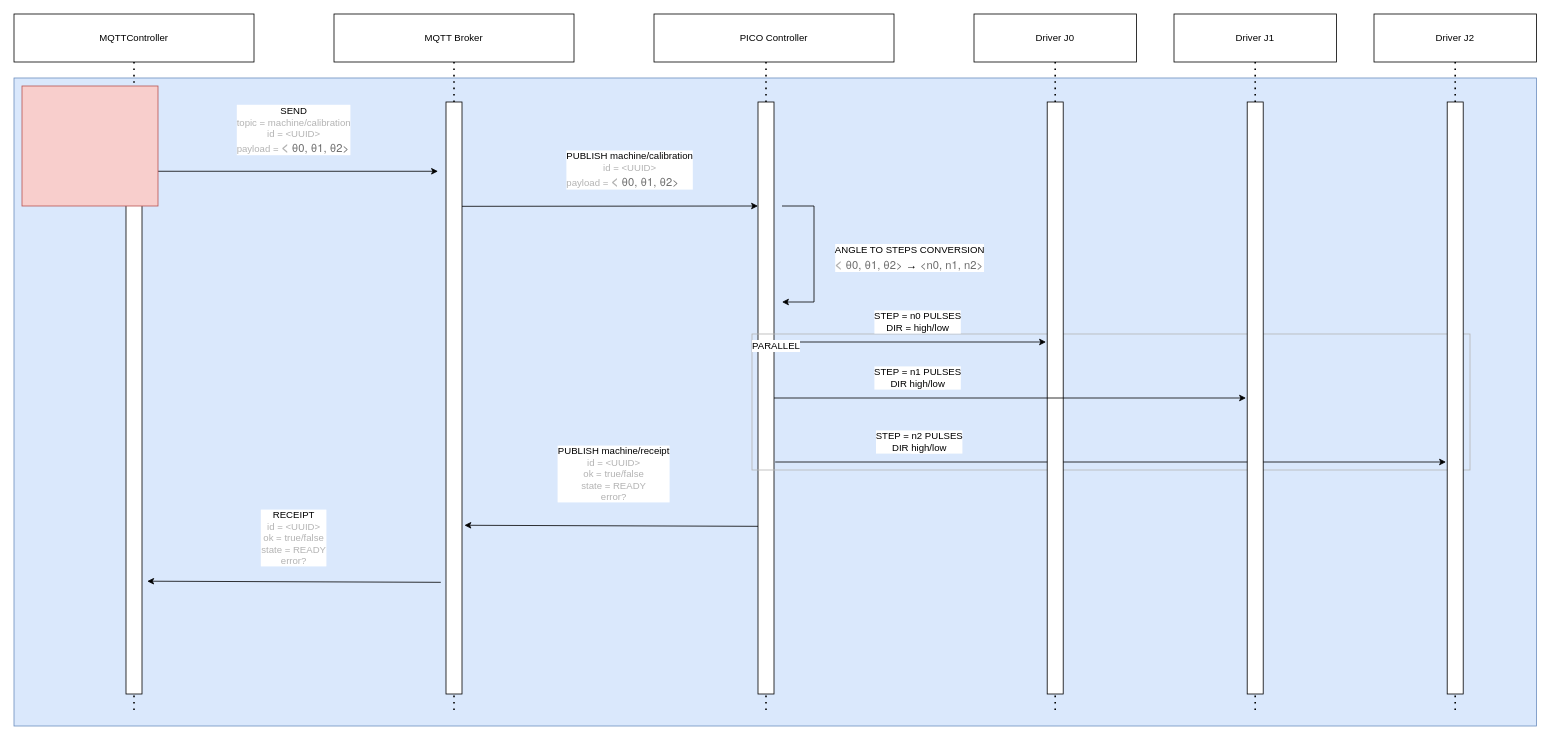
Some shapes in this 1550 by 740 pixel diagram are drawn without their labels. The box of each missing label's shape, as (x1, y1, x2, y2) in pixels:
CALIBRATION: (21, 85, 158, 206)
WAIT FOR ALL PULSE SEQUENCES: (757, 101, 774, 694)
